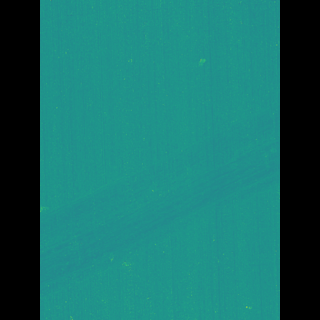Loch: (71, 100, 250, 301)
